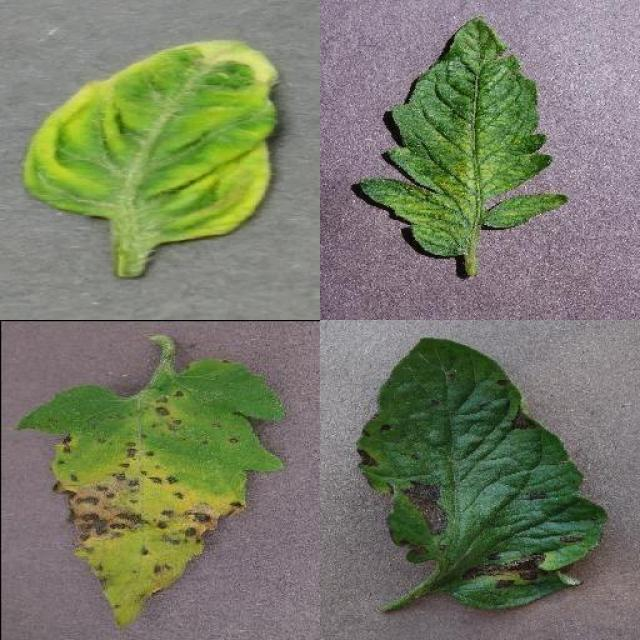Early Blight: (359, 336, 609, 614)
Septoria: (12, 358, 288, 630)
